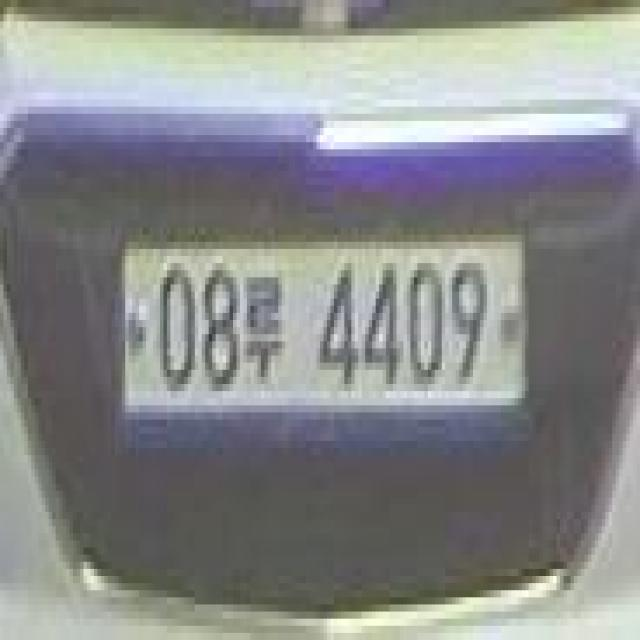illegal_plate: (113, 242, 534, 447)
